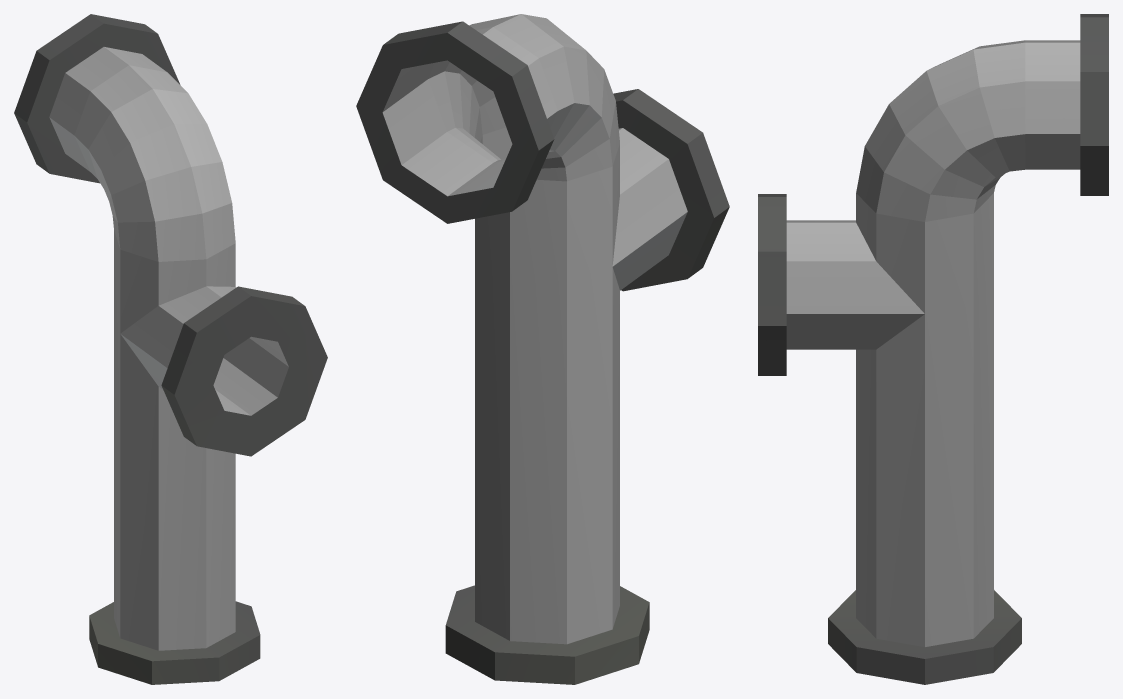
File: Pipe_big_long_2.fbx
The picture shows the model from 3 angles, left to right: view 1: azimuth 30°, elevation 25°; view 2: azimuth 150°, elevation 25°; view 3: azimuth 270°, elevation 25°; orthographic projection. The views are drawn at different scales.
Parts seen in each view (by area): view 1: Pipe_big_long_2; view 2: Pipe_big_long_2; view 3: Pipe_big_long_2.
Part boxes in pixels (x1=…): Pipe_big_long_2: x1=14, y1=14, x2=327, y2=684; Pipe_big_long_2: x1=356, y1=14, x2=729, y2=684; Pipe_big_long_2: x1=758, y1=14, x2=1108, y2=684.
Bounding box in the file's own units: 54.15 × 193 × 98.08.
